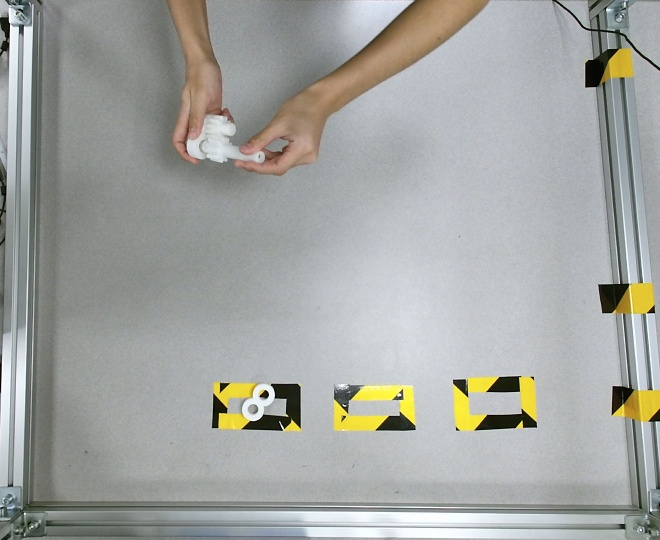stage_2: (186, 115, 235, 159)
